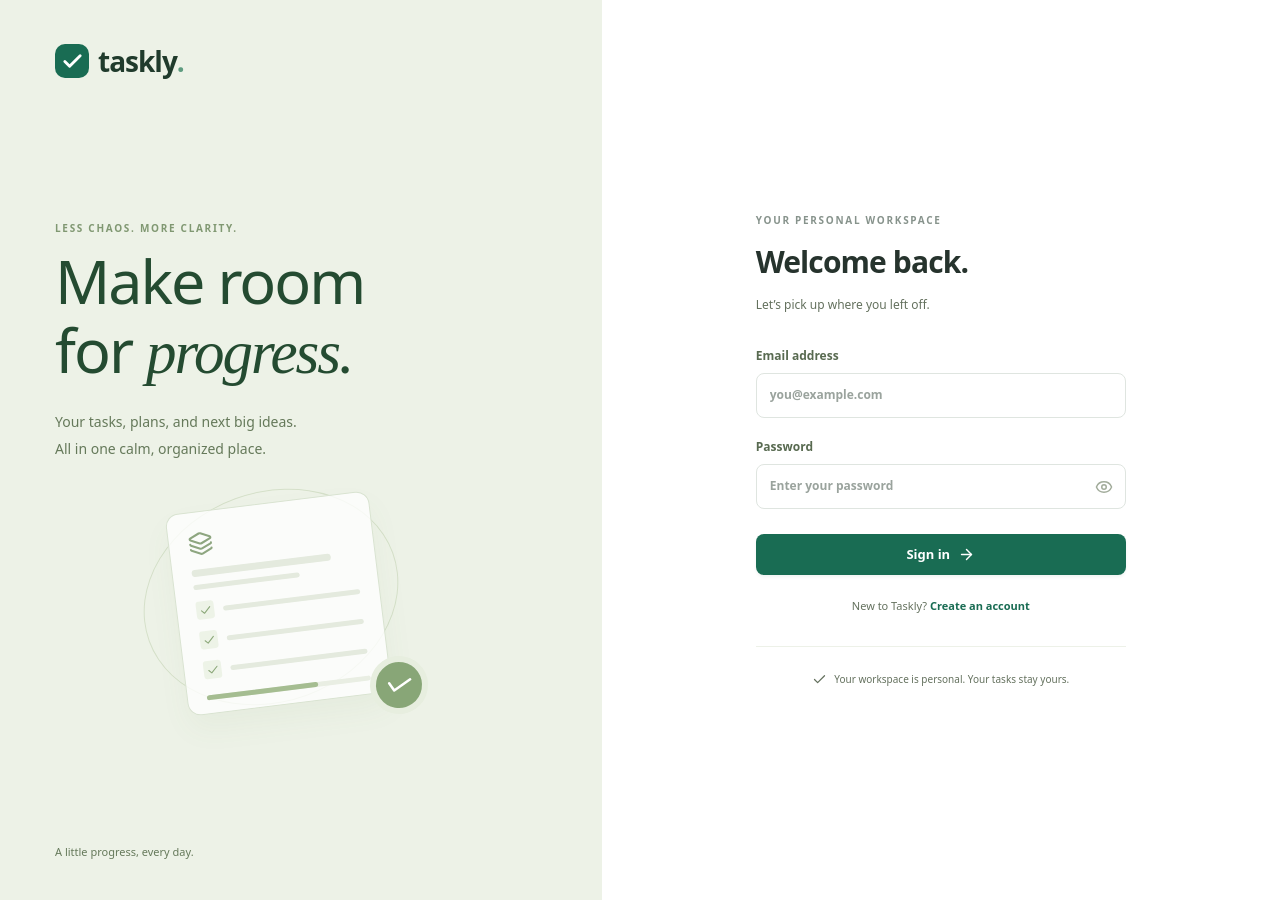
Test: authentication forms › submits login and shows API errors without claiming success
Type "asha@example.com" into the field labelled "Email address" at (941, 395), box x1=756 y1=373 x2=1126 y2=418
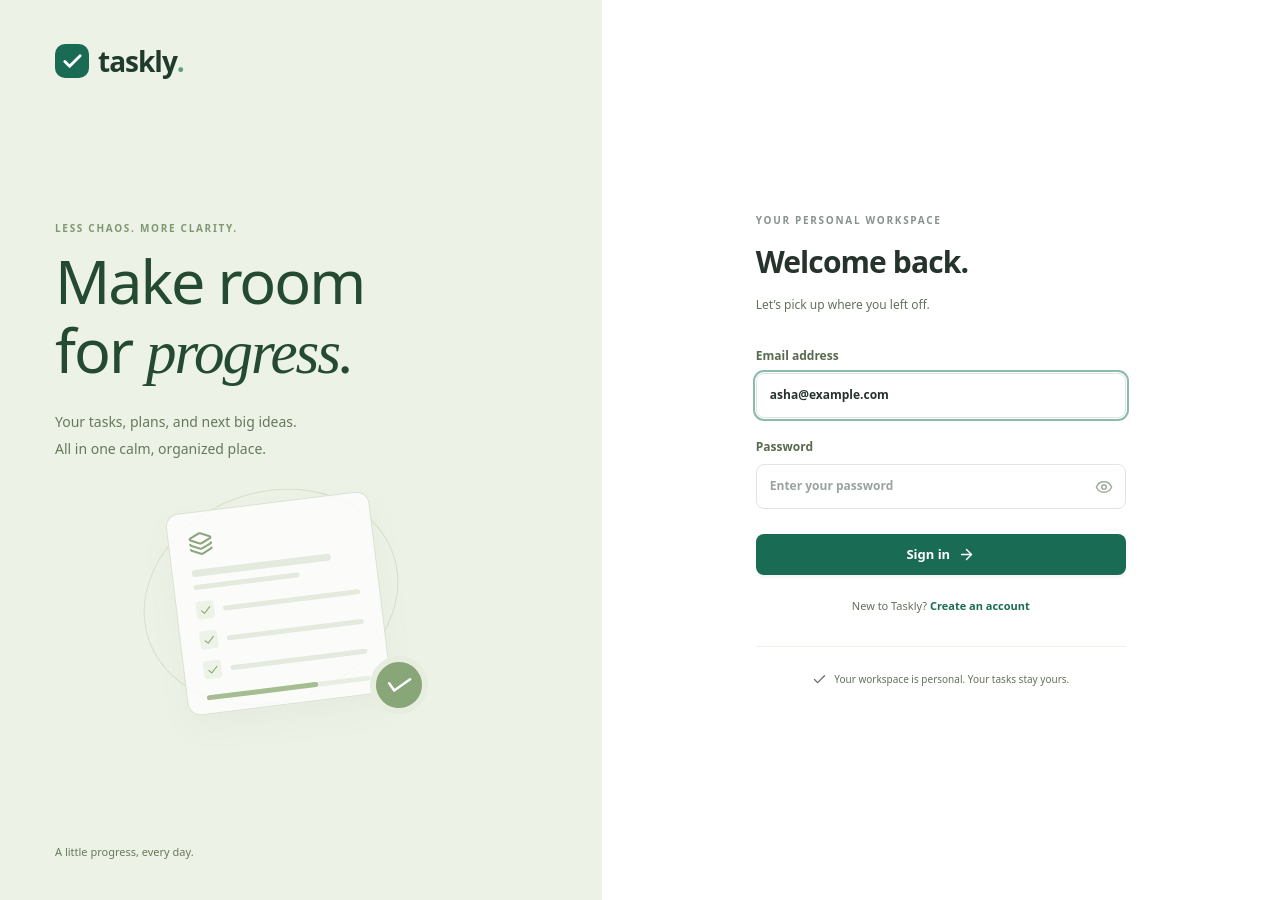
Type "password-123" into the password field labelled "Password" at (941, 486), box x1=756 y1=464 x2=1126 y2=509
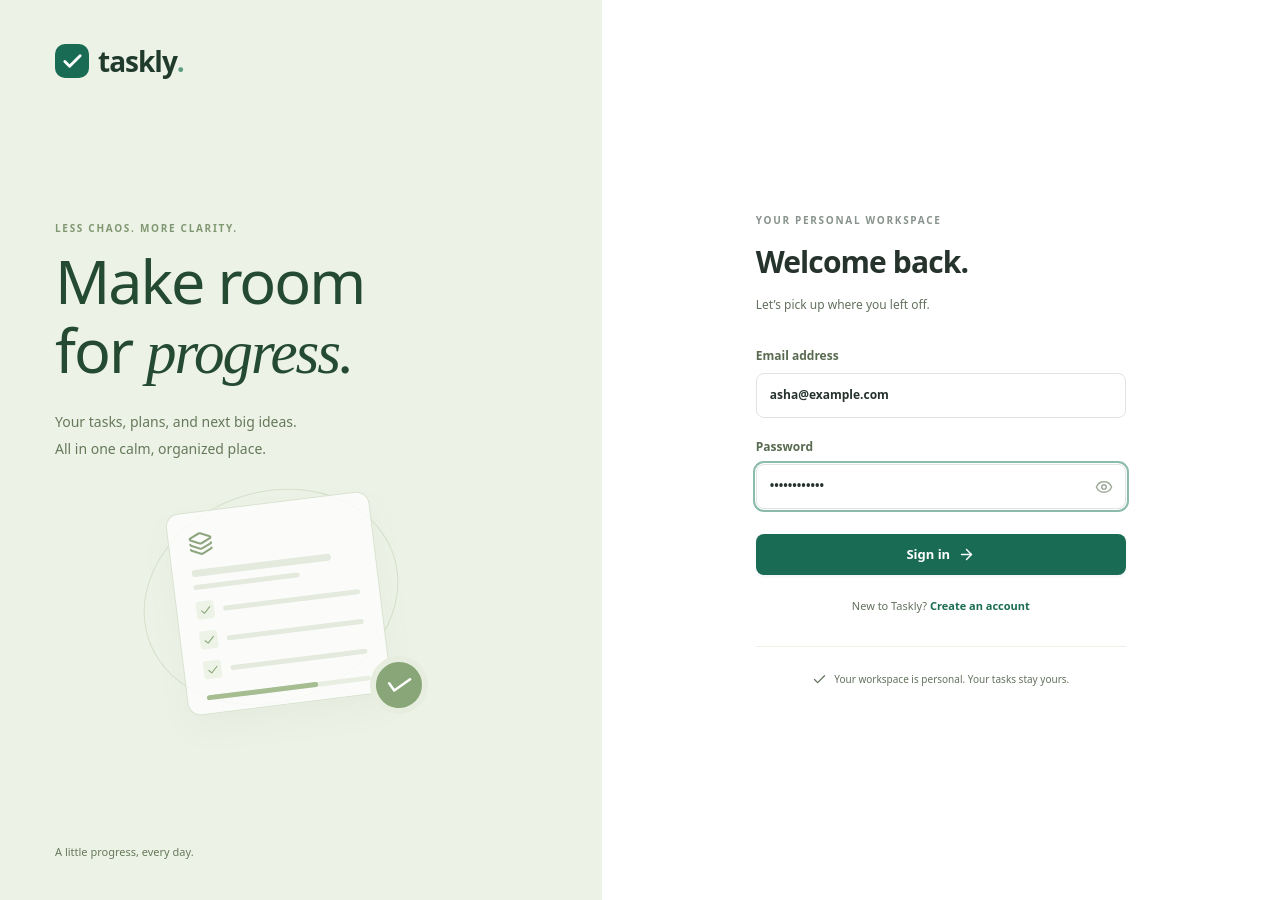
Click the button named "Show password" at (1104, 487), box x1=1095 y1=478 x2=1113 y2=496
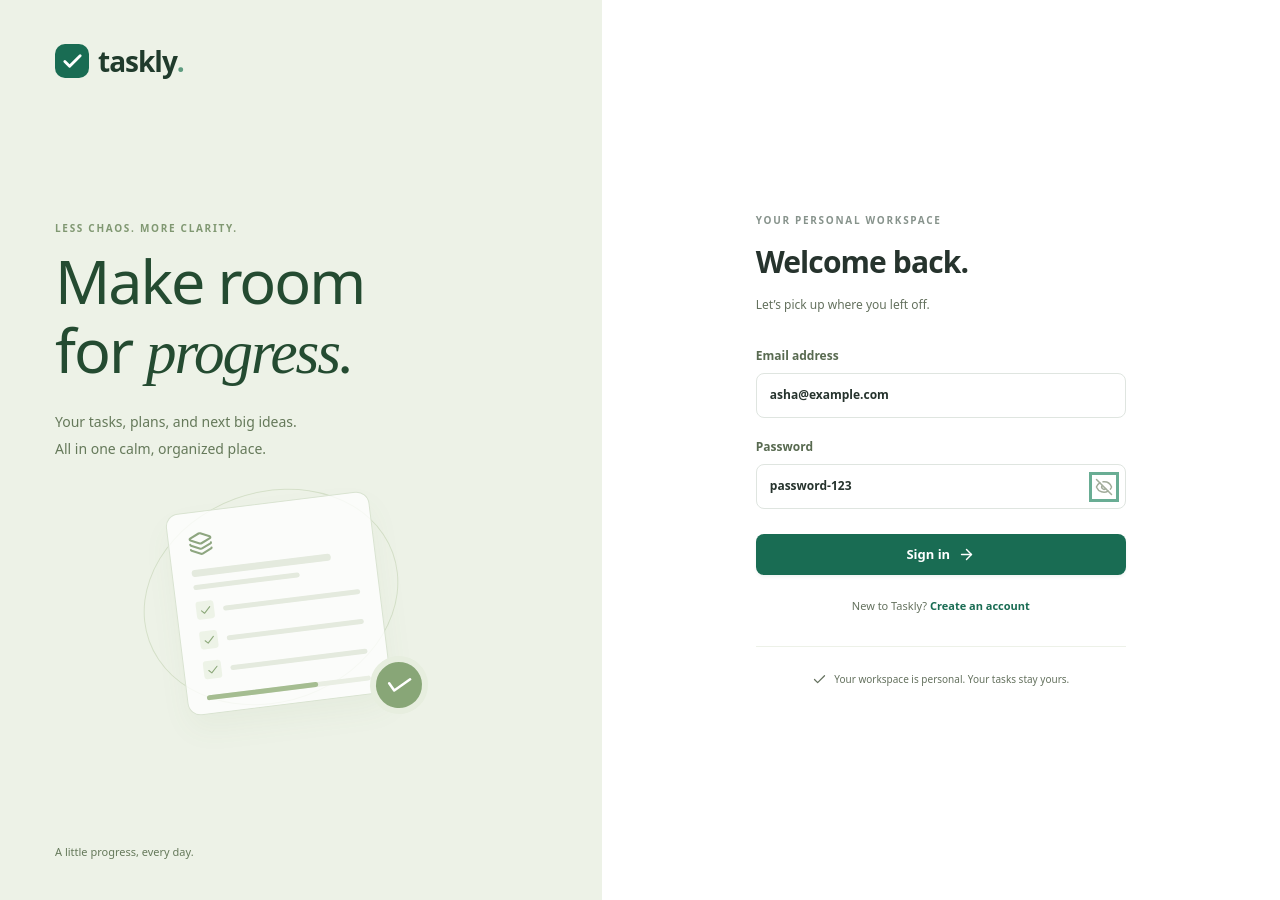
Check: the field labelled "Password" shows its text, box x1=756 y1=464 x2=1126 y2=509
Click the button "Sign in" at (941, 554), box x1=756 y1=534 x2=1126 y2=575
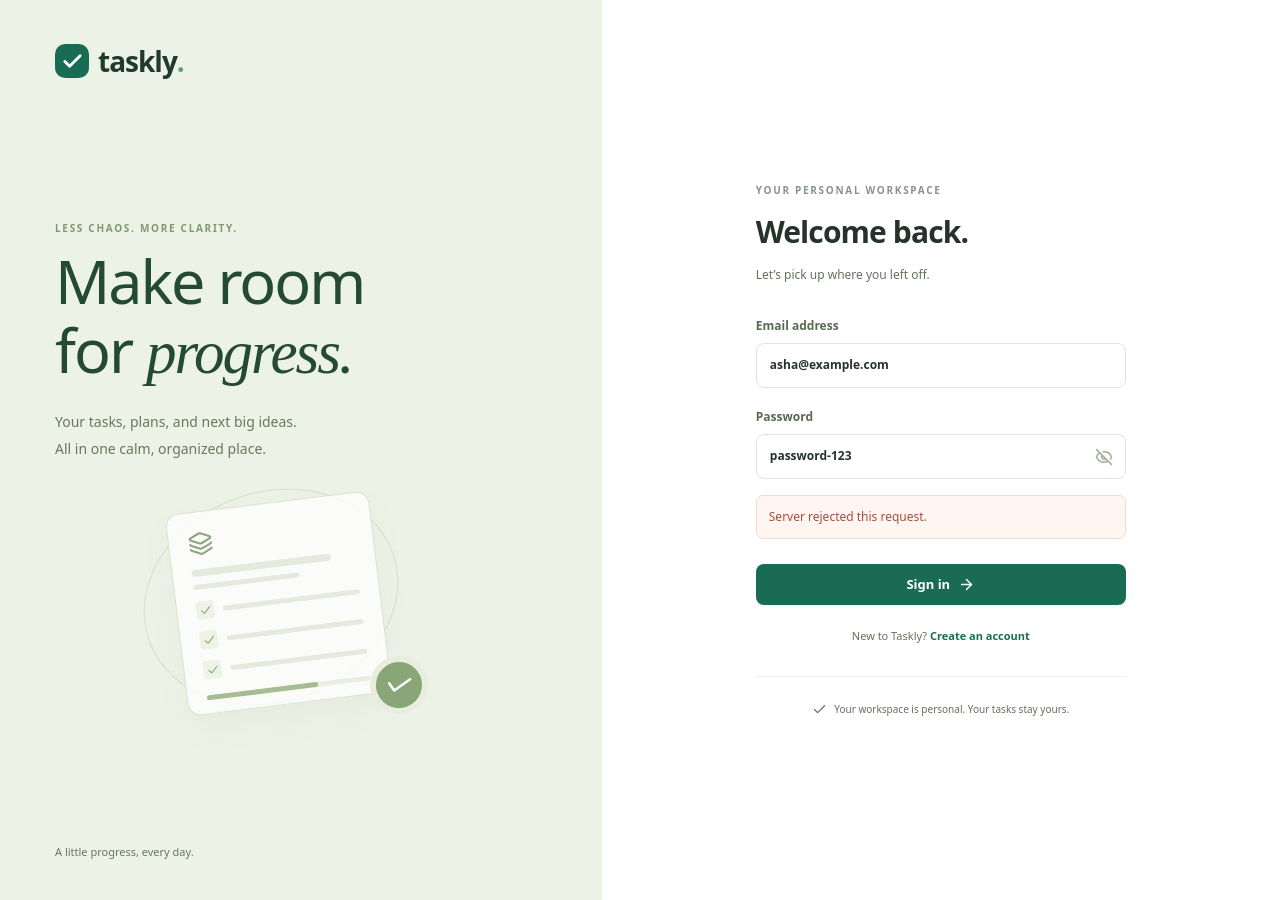
Check: the message shows "Server rejected", box x1=769 y1=508 x2=927 y2=525
